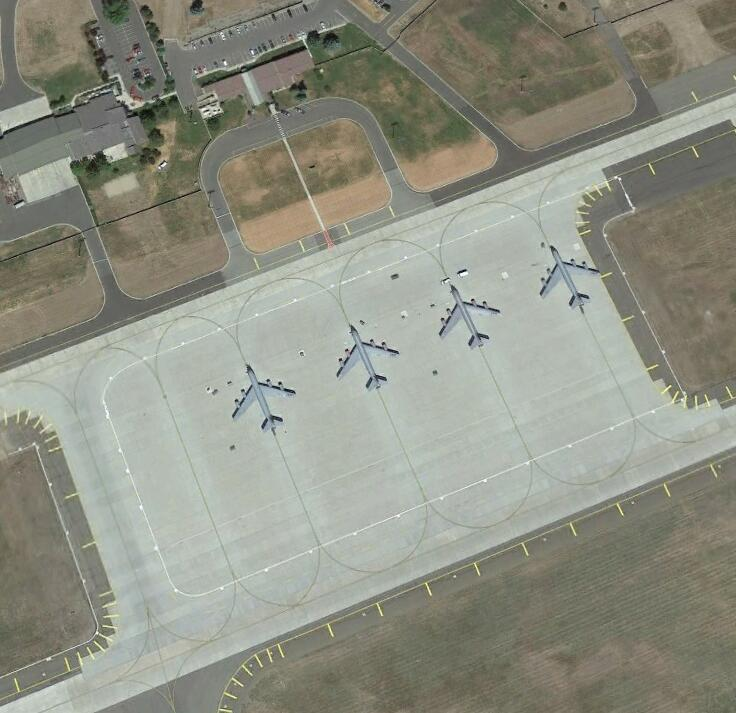A14: (226, 363, 297, 432), (333, 323, 401, 391), (434, 282, 500, 349), (535, 245, 602, 309)
